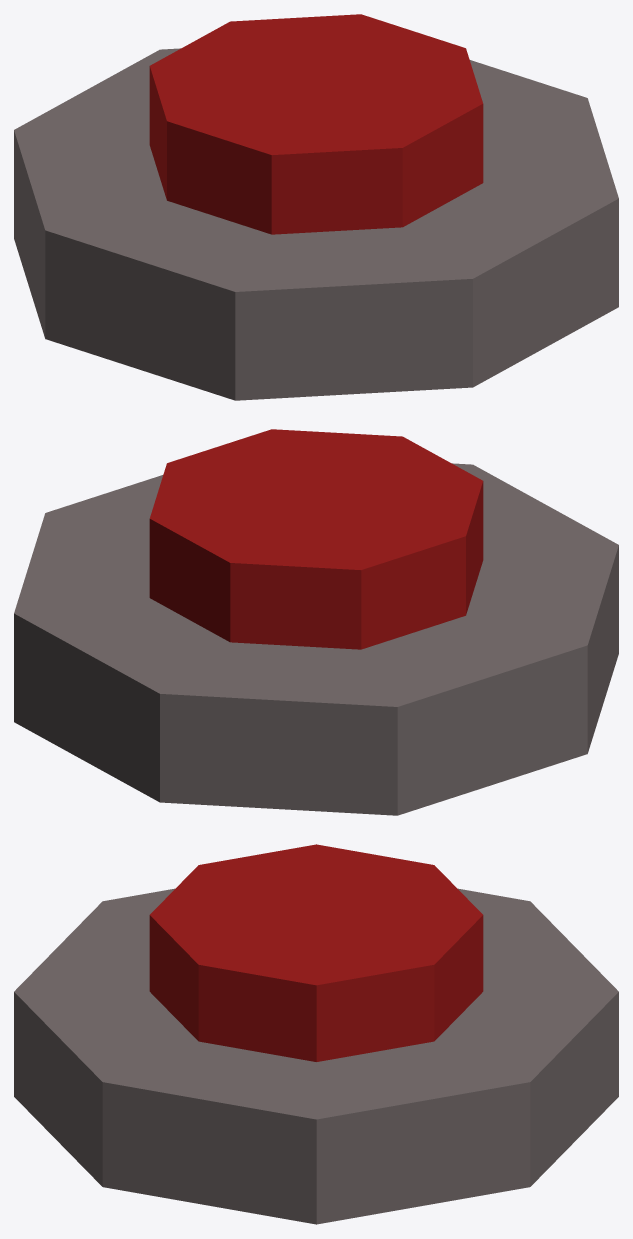
File: mineObject.fbx
3 views of the same model, one above another, from view 1: azimuth 30°, elevation 25°; view 2: azimuth 150°, elevation 25°; view 3: azimuth 270°, elevation 25° (orthographic). The views are drawn at different scales.
Parts seen in each view (by area): view 1: pCylinder1; view 2: pCylinder1; view 3: pCylinder1.
Boxes of the visible parts, x1,y1,x2,y2 form: pCylinder1: [14, 14, 618, 400]; pCylinder1: [14, 429, 618, 815]; pCylinder1: [14, 844, 618, 1224].
Size of the model in its own units: 8.2 by 2.72 by 8.2.
